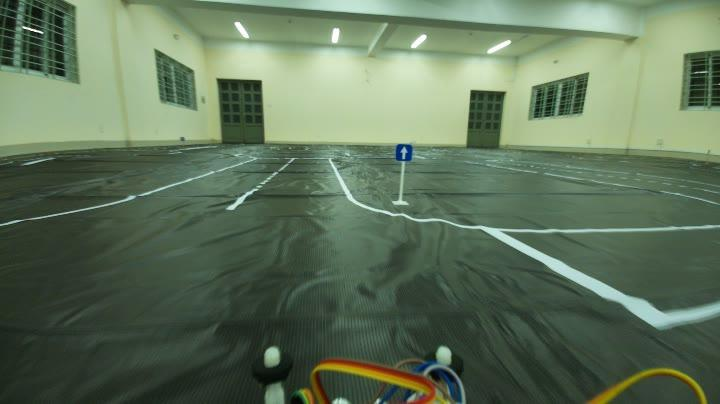onewayroad: (391, 138, 412, 164)
